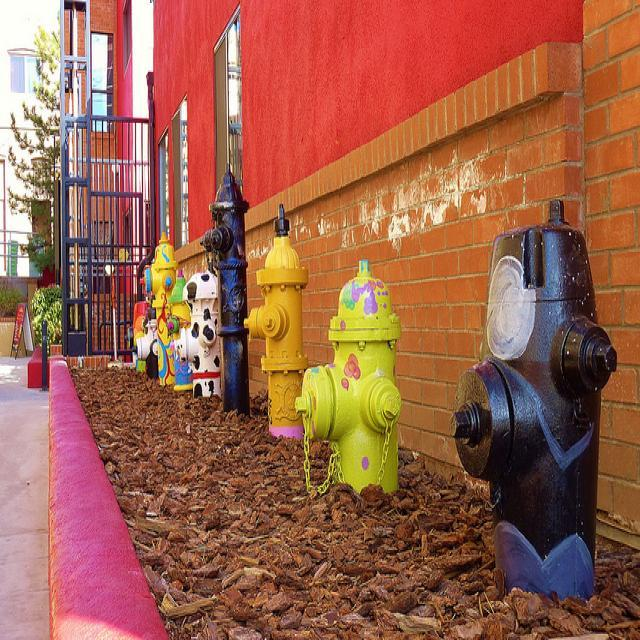fire_hydrant: (446, 193, 615, 586), (296, 258, 403, 486), (237, 190, 309, 440), (200, 158, 252, 412), (139, 231, 177, 385), (173, 270, 219, 396), (168, 270, 193, 390), (132, 306, 158, 378), (134, 314, 147, 374)
